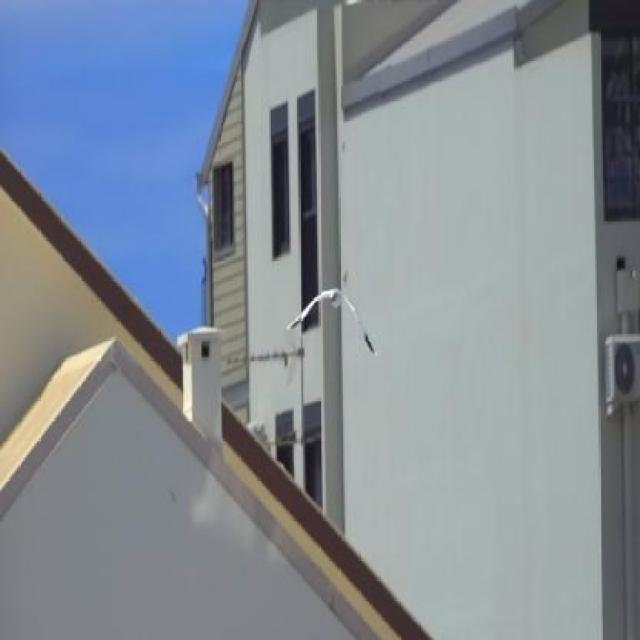bird: (274, 258, 380, 374)
